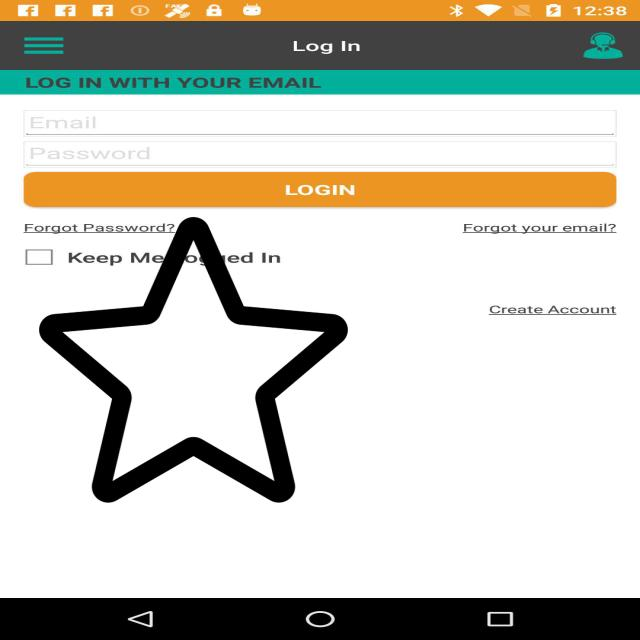forced continuity: (39, 211, 348, 508)
